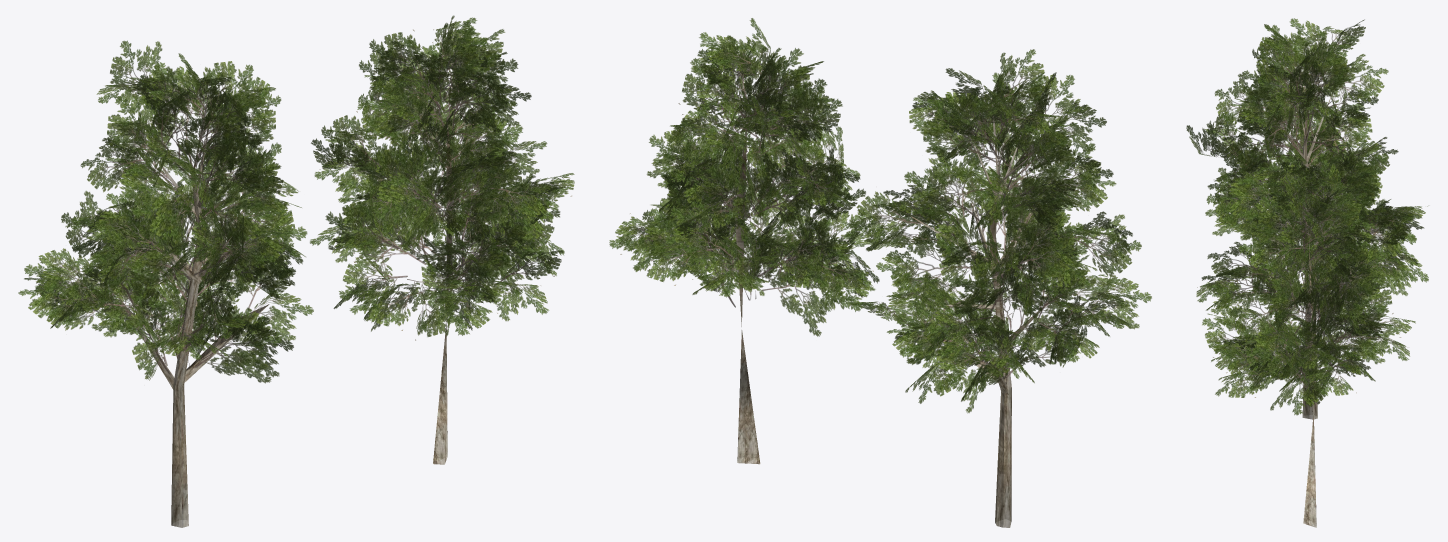
Rendered from lowpoly.glb.
The picture shows the model from 3 angles, left to right: view 1: azimuth 30°, elevation 25°; view 2: azimuth 150°, elevation 25°; view 3: azimuth 270°, elevation 25°; orthographic projection. The views are drawn at different scales.
Parts seen in each view (by area): view 1: Tree 1_Tree 1_0; view 2: Tree 1_Tree 1_0; view 3: Tree 1_Tree 1_0.
Boxes of the visible parts, bbox=[...] form: Tree 1_Tree 1_0: bbox=[18, 15, 574, 527]; Tree 1_Tree 1_0: bbox=[609, 18, 1151, 527]; Tree 1_Tree 1_0: bbox=[1186, 18, 1428, 527].
Size of the model in its own units: 1.19 by 1 by 0.5798.
Materials: 1 (1 with a texture image).
